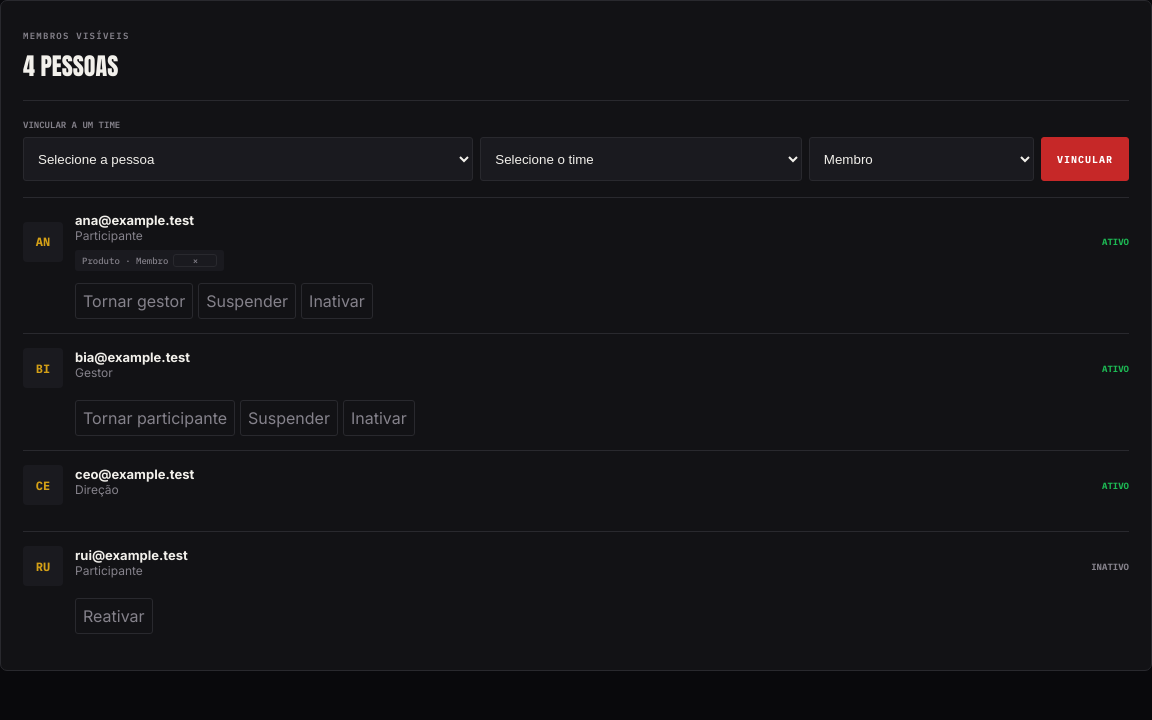
MembershipAdministrationPanel › confirms status transitions with an operational reason
Click the button "Suspender" below "Produto": (247, 301) [198, 283, 296, 319]
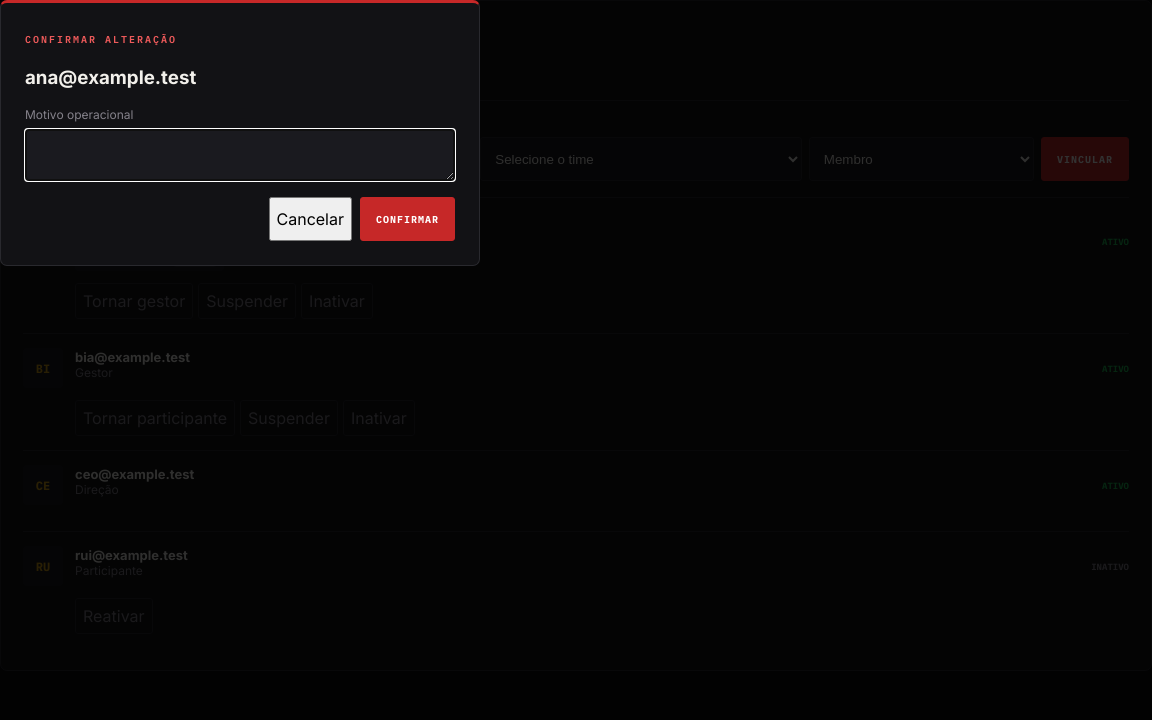
In the text box labelled "Motivo operacional": (240, 155) [25, 129, 455, 181], type "Solicitação da gestão"
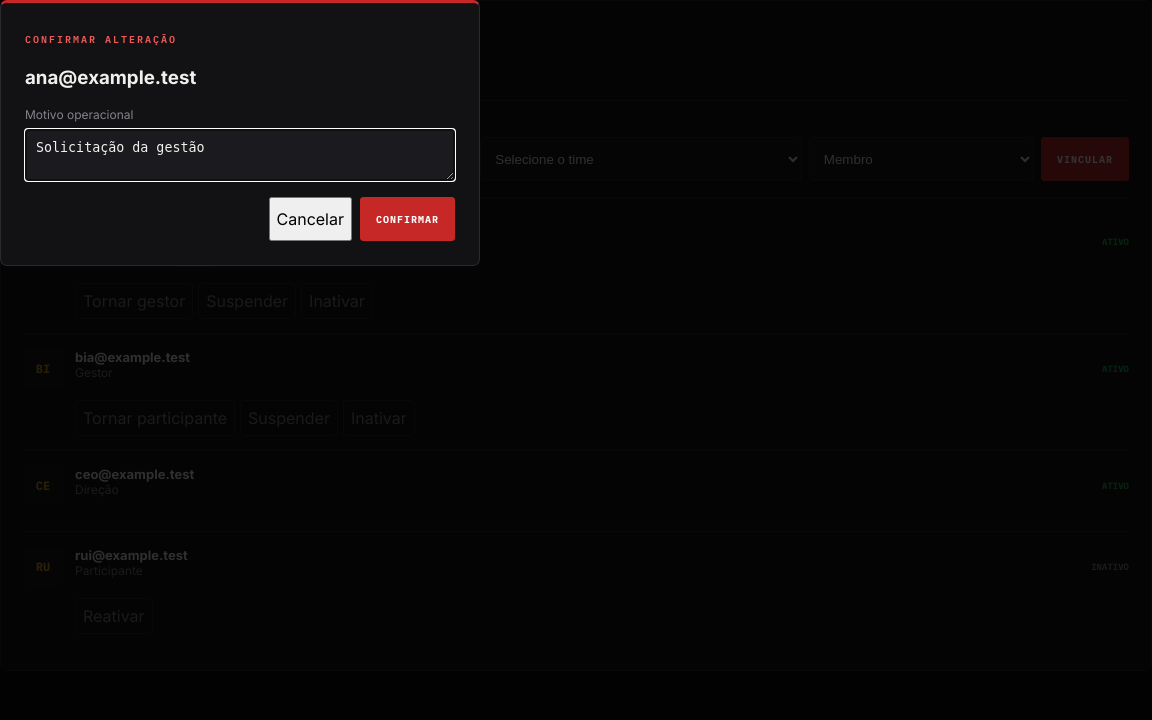
Click the button "Confirmar": (408, 219) [360, 197, 455, 241]
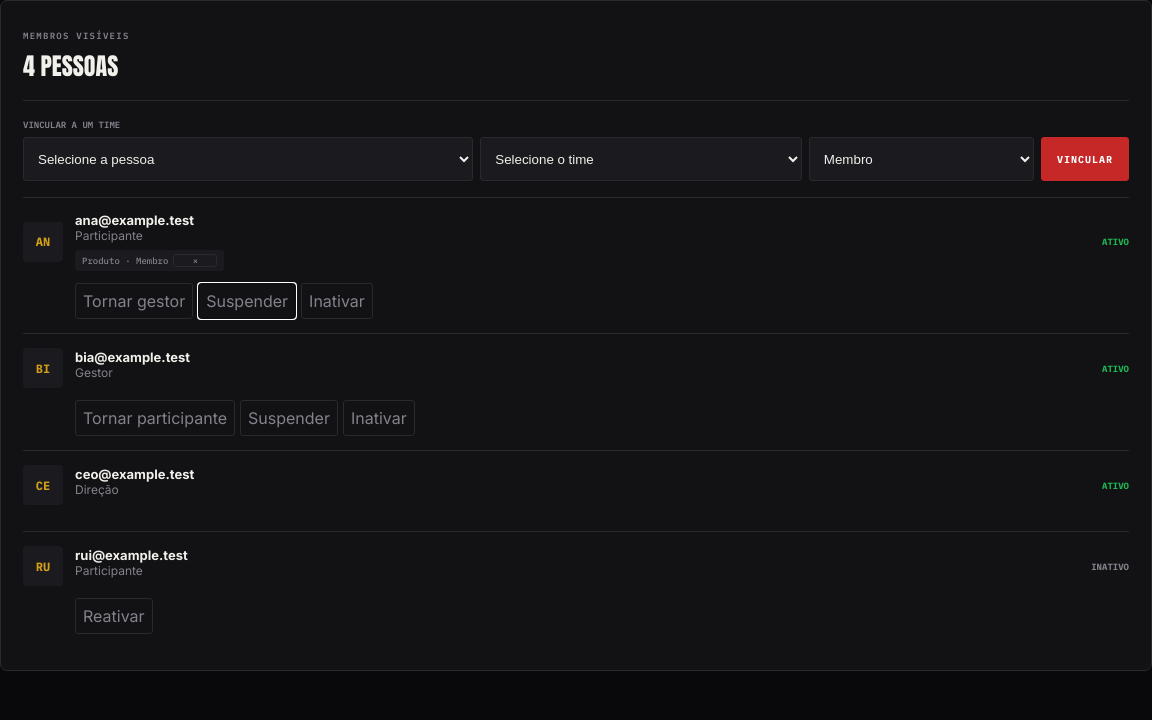
Now the dialog is gone
Click the button "Reativar": (114, 616) [75, 598, 153, 634]
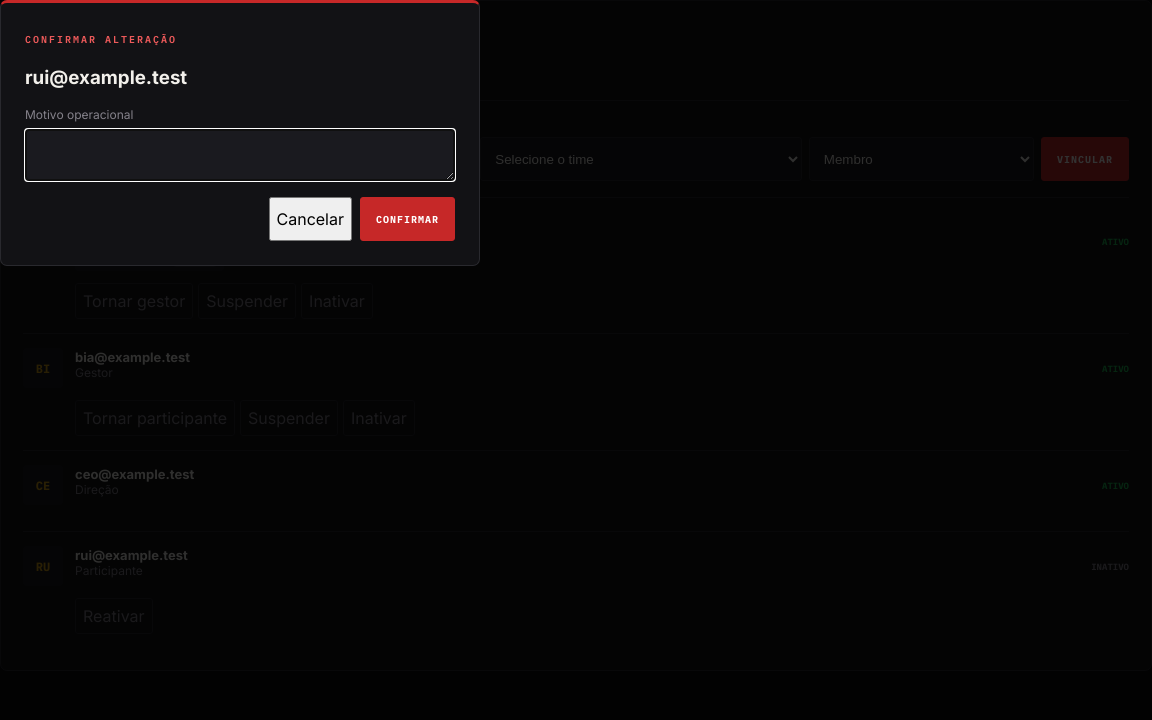
Press Escape
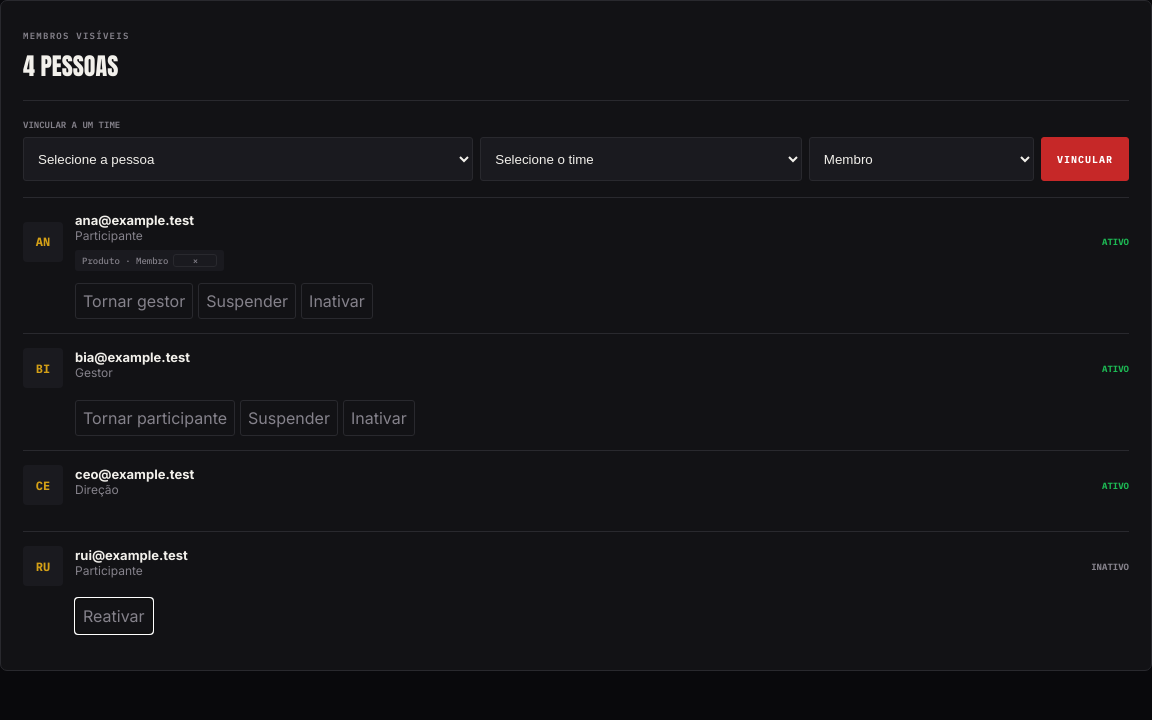
Now the dialog is gone
